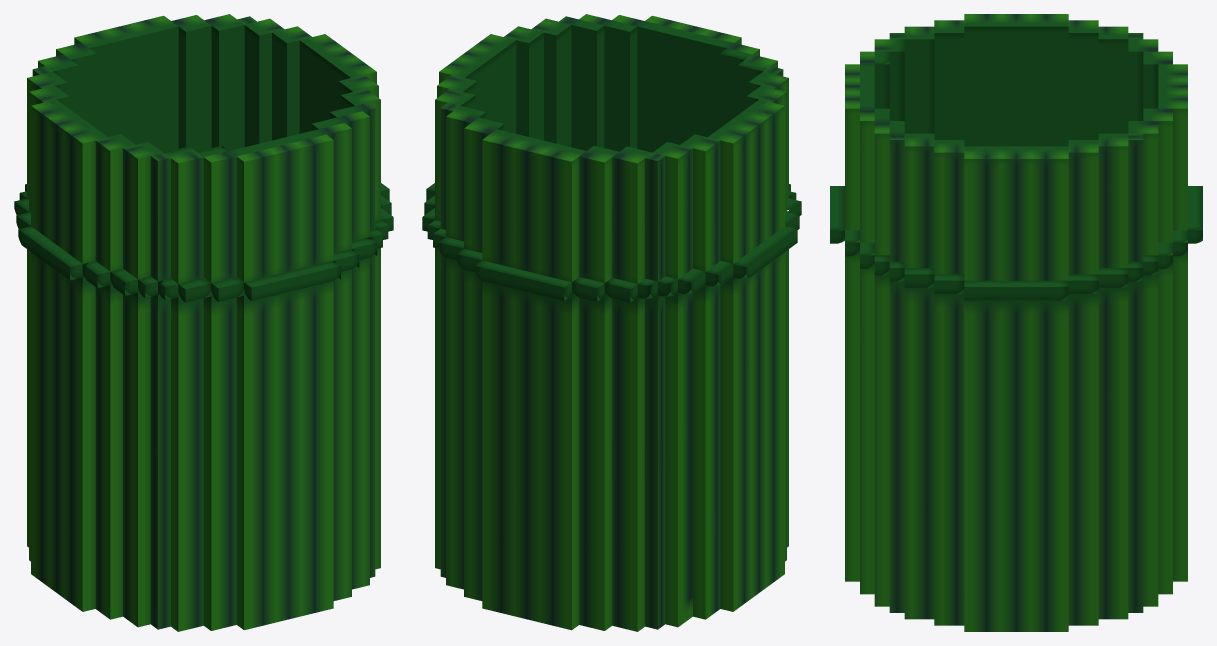
Rendered from Caneca.fbx.
3 renders of one model, left to right at view 1: azimuth 30°, elevation 25°; view 2: azimuth 150°, elevation 25°; view 3: azimuth 270°, elevation 25°, orthographic.
Parts seen in each view (by area): view 1: Caneca.001; view 2: Caneca.001; view 3: Caneca.001.
Part boxes in pixels (x1,y1,x2,y2): Caneca.001: [14, 14, 393, 631]; Caneca.001: [422, 14, 801, 631]; Caneca.001: [830, 14, 1202, 631].
Bounding box in the file's own units: 2.52 × 3.53 × 2.52.
